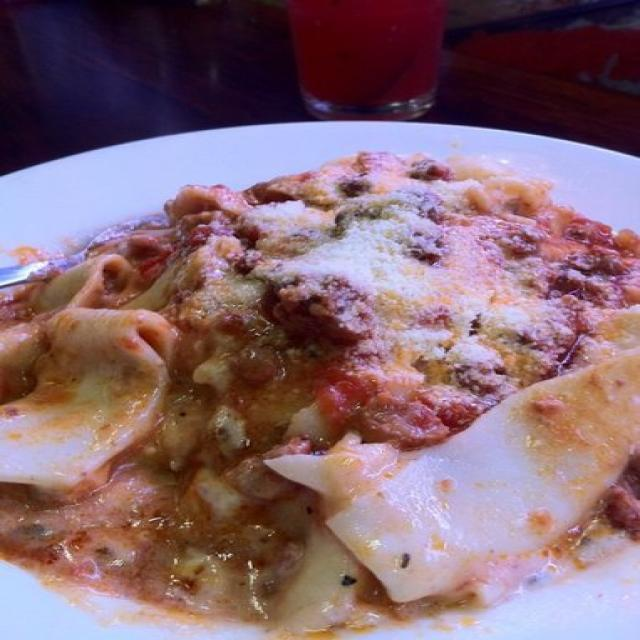Lasagna: (3, 153, 631, 615)
